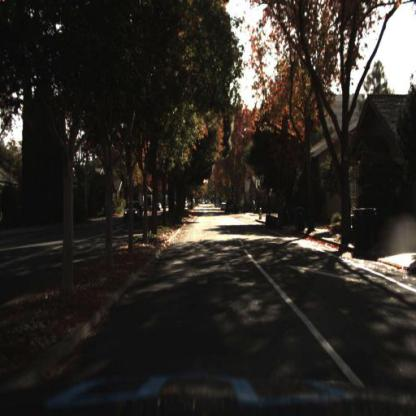car: (121, 201, 145, 230), (125, 203, 143, 222)
pedestrian: (251, 198, 257, 219)
